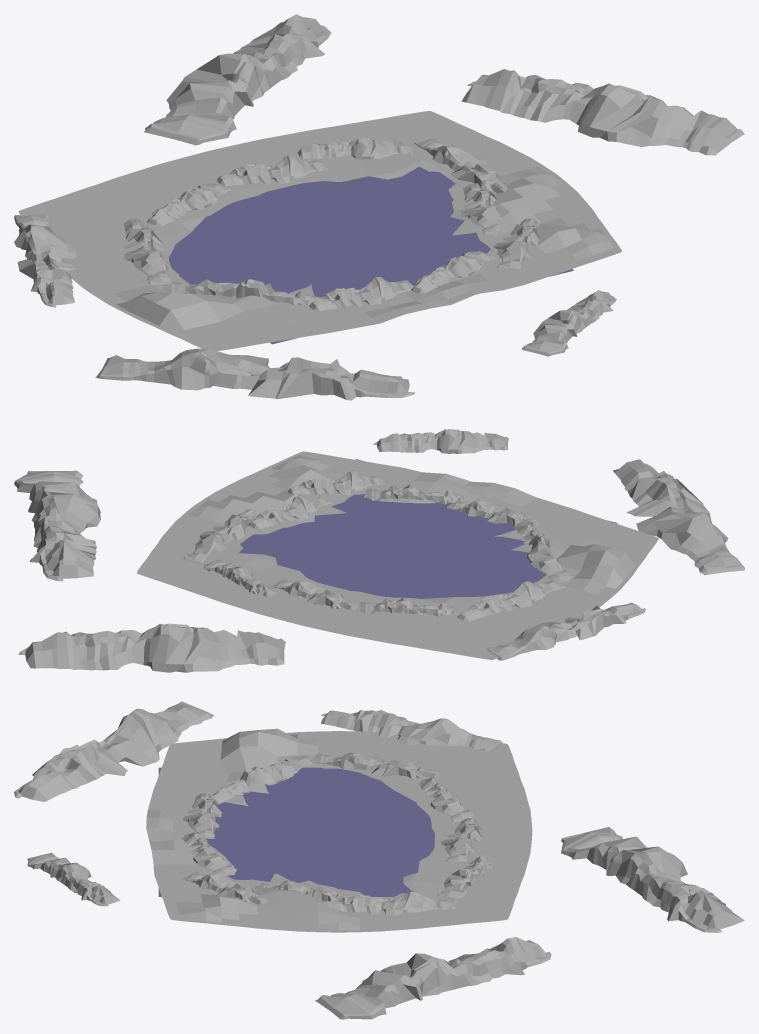
Rendered from DistantTerrain.fbx.
3 views of the same model, one above another, from view 1: azimuth 30°, elevation 25°; view 2: azimuth 150°, elevation 25°; view 3: azimuth 270°, elevation 25° (orthographic). The views are drawn at different scales.
Visible parts, largest first — view 1: polySurface16, watr, polySurface14, polySurface15, polySurface13, polySurface12, polySurface11, polySurface5, polySurface6, polySurface3, polySurface7, polySurface8 (+5 smaller); view 2: polySurface16, watr, polySurface15, polySurface13, polySurface14, polySurface12, polySurface11, polySurface5, polySurface6, polySurface3, polySurface4, polySurface9 (+5 smaller); view 3: polySurface16, watr, polySurface14, polySurface15, polySurface13, polySurface12, polySurface11, polySurface6, polySurface5, polySurface3, polySurface7, polySurface4 (+5 smaller).
Boxes of the visible parts, left/top/right/bottom form: polySurface16: left=18, top=111, right=621, bottom=350; watr: left=169, top=166, right=573, bottom=344; polySurface14: left=461, top=69, right=744, bottom=155; polySurface15: left=144, top=14, right=331, bottom=145; polySurface13: left=95, top=348, right=415, bottom=400; polySurface12: left=14, top=214, right=76, bottom=307; polySurface11: left=522, top=290, right=616, bottom=356; polySurface5: left=123, top=218, right=172, bottom=284; polySurface6: left=414, top=138, right=507, bottom=195; polySurface3: left=161, top=279, right=323, bottom=304; polySurface7: left=215, top=155, right=328, bottom=186; polySurface8: left=296, top=138, right=413, bottom=159; polySurface16: left=137, top=451, right=658, bottom=659; watr: left=239, top=459, right=616, bottom=598; polySurface15: left=18, top=623, right=285, bottom=672; polySurface13: left=613, top=459, right=744, bottom=575; polySurface14: left=14, top=470, right=100, bottom=581; polySurface12: left=487, top=602, right=645, bottom=660; polySurface11: left=373, top=429, right=508, bottom=453; polySurface5: left=456, top=579, right=565, bottom=621; polySurface6: left=183, top=508, right=257, bottom=564; polySurface3: left=514, top=521, right=572, bottom=582; polySurface4: left=286, top=470, right=385, bottom=495; polySurface9: left=248, top=495, right=331, bottom=529; polySurface16: left=146, top=728, right=532, bottom=932; watr: left=158, top=767, right=434, bottom=896; polySurface14: left=315, top=937, right=551, bottom=1019; polySurface15: left=561, top=827, right=744, bottom=932; polySurface13: left=14, top=701, right=214, bottom=801; polySurface12: left=321, top=710, right=502, bottom=751; polySurface11: left=27, top=852, right=120, bottom=906; polySurface6: left=321, top=891, right=456, bottom=915; polySurface5: left=310, top=752, right=440, bottom=778; polySurface3: left=209, top=755, right=314, bottom=804; polySurface7: left=441, top=818, right=482, bottom=863; polySurface4: left=182, top=872, right=267, bottom=905.
Bounding box in the file's own units: 87.91 × 4.45 × 86.14.
